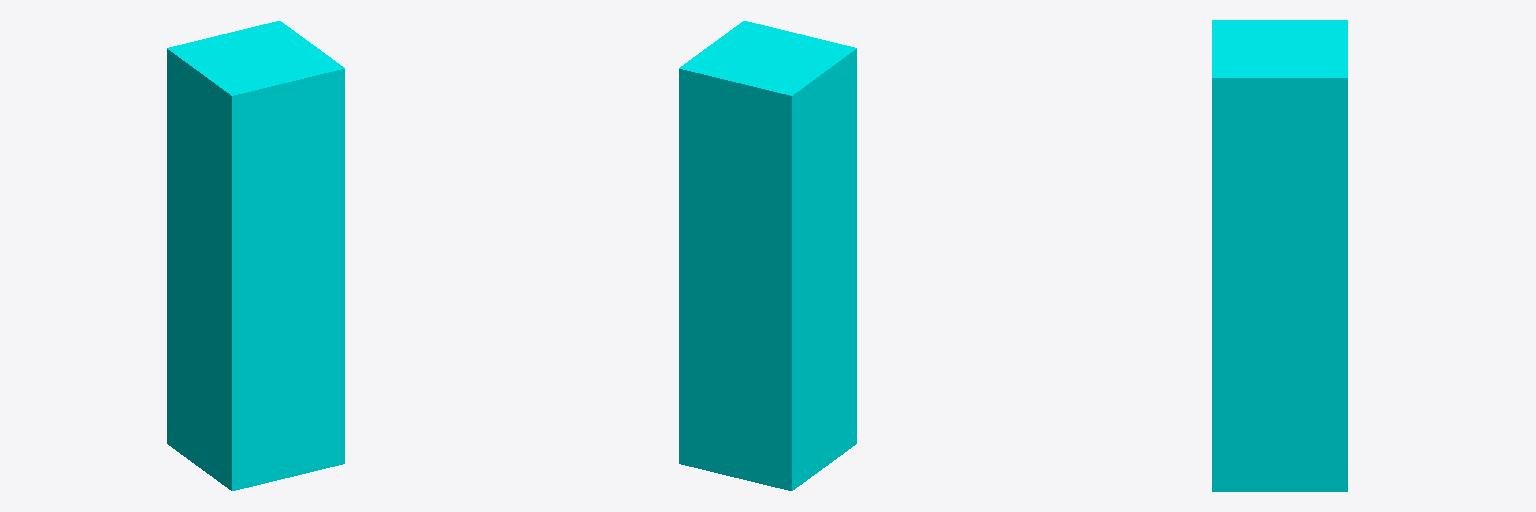
The robot description file, URDF, robot "simple_cuboid":
<?xml version="1.0"?>
<robot name="simple_cuboid">
  <link name="base_link">
    <inertial>
      <origin xyz="0 0 0" rpy="0 0 0" />
      <mass value="0.1" />
      <inertia ixx="0.000363" ixy="0" ixz="0" iyy="0.000363" iyz="0"
          izz="0.00006" />
    </inertial>
    <visual>
      <origin xyz="0 0 0" rpy="0 0 0" />
      <geometry>
        <box size="0.06 0.06 0.2" />
      </geometry>
      <material name="cyan">
        <color rgba="0. 1. 1. 0.9" />
      </material>
    </visual>

    <!--
      This places contact spheres on the corners of the visual box and a
      *slightly* smaller inset contact box (centered on the visual origin). This
      accounts for issues in the contact computation providing stable table
      contact *and* supports grasping.

      When the box is in stable contact with the ground plane, the corner
      spheres will provide fixed contact points (simulating distributed contact
      points around the face).  However, for arbitrary grip configuration, the
      slightly inset box will provide contact with a *slight* offset (in this
      case a deviation of 0.0005 m from the visual surface).

      https://github.com/RobotLocomotion/drake/issues/6254 tracks the
      difficulty in supporting face-to-face contact.
     -->
    <collision>
      <origin xyz="0 0 0" rpy="0 0 0" />
      <geometry>
        <mesh filename="file://[local-path]/ros_devel_ws/src/learn_affordance_tamp/tamp/examples/pybullet/utils/models/drake/objects/meiying_block_for_pick_and_place.obj" />
      </geometry>
    </collision>

   </link>
</robot>

--- What the picture shows (computed from the rendered views, not written in the file) ---
3 views of the same robot in one strip: view 1: azimuth 30°, elevation 25°; view 2: azimuth 150°, elevation 25°; view 3: azimuth 270°, elevation 25° (orthographic).
Model simple_cuboid with 1 links and 0 joints (none), rooted at base_link, posed all joints at 0.
Visible links, largest first — view 1: base_link; view 2: base_link; view 3: base_link.
Link boxes in pixels (box(x1,y1,x2,y2)): base_link: box(167, 21, 344, 490); base_link: box(679, 21, 856, 490); base_link: box(1212, 20, 1347, 491).
Bounding box of the posed robot: 0.06 × 0.06 × 0.2 m (x, y, z).
Geometry: primitives only (box / cylinder / sphere), no mesh files.
